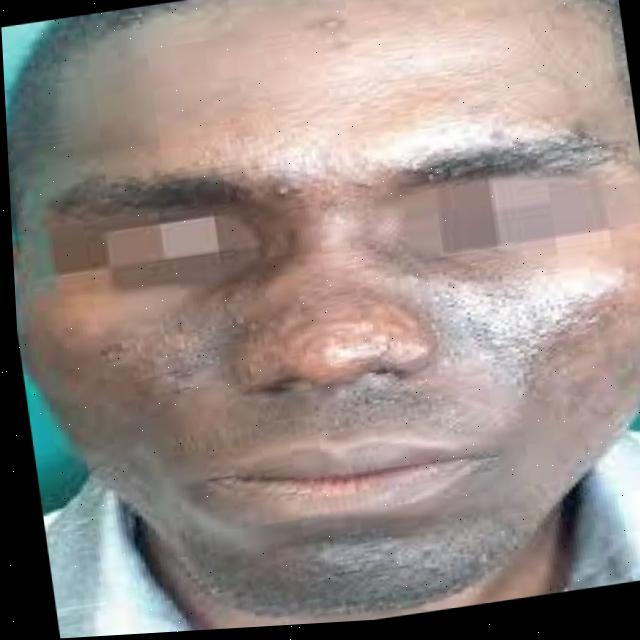Rosacea: (91, 257, 413, 406), (420, 245, 632, 375)
